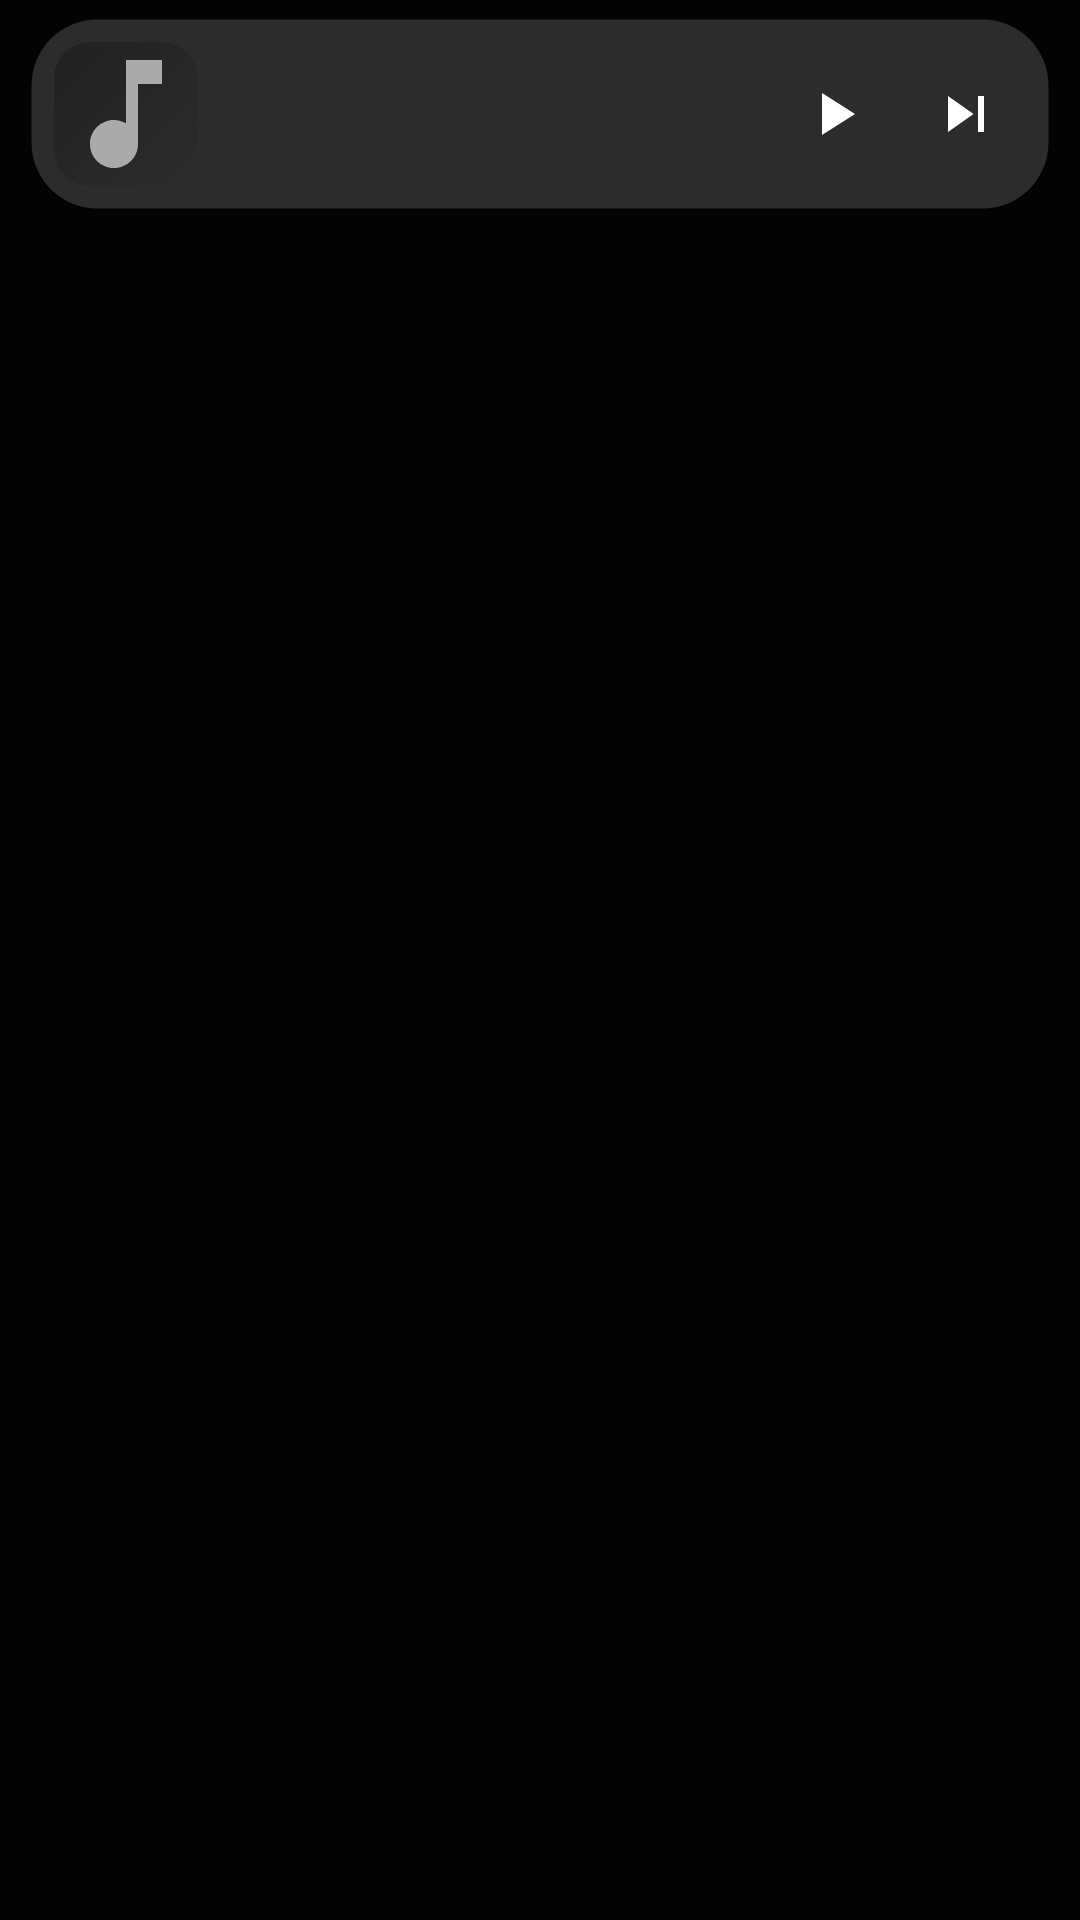

Icon click points for this 1080*1920 phone screenshot, format [x,y]:
next: [966,114]
play: [838,114]
